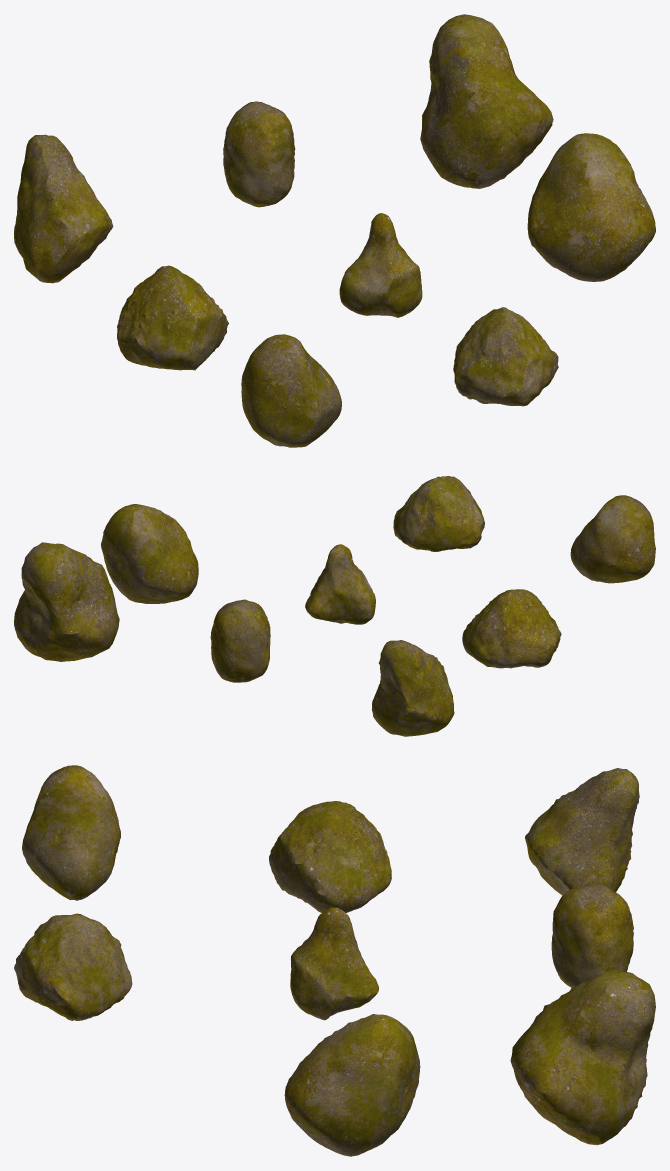
File: rock_selection.fbx
3 renders of one model, top to bottom at view 1: azimuth 30°, elevation 25°; view 2: azimuth 150°, elevation 25°; view 3: azimuth 270°, elevation 25°, orthographic. The views are drawn at different scales.
Visible parts, largest first — view 1: rock.005, rock.009, rock.004, rock.008, rock.002, rock.001, rock.006, rock; view 2: rock.005, rock.009, rock.004, rock.008, rock.002, rock.001, rock.006, rock; view 3: rock.005, rock.009, rock.004, rock.008, rock.002, rock.001, rock.006, rock.
Boxes of the visible parts, x1,y1,x2,y2 form: rock.005: (420,14,553,188); rock.009: (527,133,655,281); rock.004: (14,134,113,283); rock.008: (117,265,228,370); rock.002: (241,334,341,447); rock.001: (453,307,558,406); rock.006: (223,101,295,207); rock: (339,213,422,317); rock.005: (14,542,119,661); rock.009: (101,504,198,603); rock.004: (372,640,454,736); rock.008: (462,589,561,668); rock.002: (570,495,655,583); rock.001: (393,476,484,551); rock.006: (210,599,270,682); rock: (305,544,375,624); rock.005: (510,969,655,1145); rock.009: (284,1014,420,1156); rock.004: (525,768,639,895); rock.008: (269,801,391,912); rock.002: (22,765,120,900); rock.001: (14,913,132,1020); rock.006: (551,884,633,987); rock: (290,907,378,1020).
Bounding box in the file's own units: 510 × 148 × 496.
